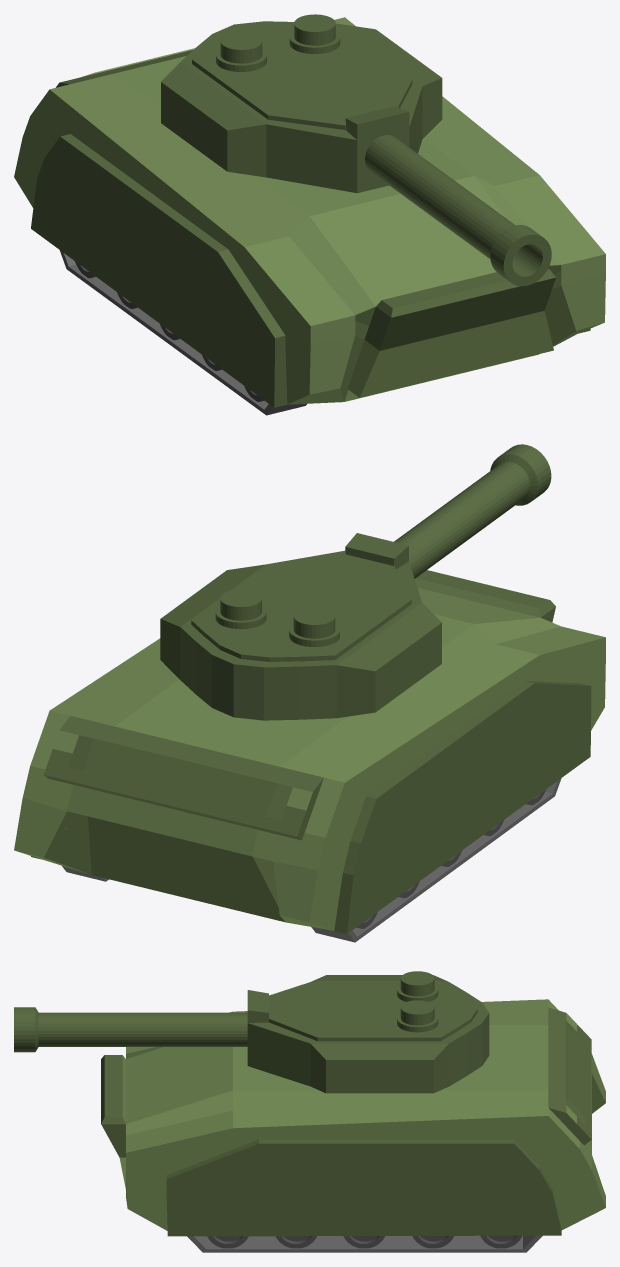
Rendered from tier2.fbx.
The picture shows the model from 3 angles, top to bottom: view 1: azimuth 30°, elevation 25°; view 2: azimuth 150°, elevation 25°; view 3: azimuth 270°, elevation 25°; orthographic projection. The views are drawn at different scales.
Visible parts, largest first — view 1: Body2, Turret2, Main Gun2, Tracks2, Road Wheels2; view 2: Body2, Turret2, Main Gun2, Tracks2; view 3: Body2, Turret2, Main Gun2, Tracks2, Road Wheels2.
Part boxes in pixels (bbox=[...]): Body2: bbox=[14, 17, 605, 407]; Turret2: bbox=[161, 14, 442, 192]; Main Gun2: bbox=[345, 106, 551, 286]; Tracks2: bbox=[59, 250, 306, 415]; Road Wheels2: bbox=[75, 261, 263, 401]; Body2: bbox=[14, 570, 605, 933]; Turret2: bbox=[160, 550, 441, 720]; Main Gun2: bbox=[345, 444, 551, 578]; Tracks2: bbox=[62, 778, 561, 942]; Body2: bbox=[101, 999, 605, 1236]; Turret2: bbox=[247, 971, 489, 1093]; Main Gun2: bbox=[14, 990, 268, 1052]; Tracks2: bbox=[187, 1235, 542, 1252]; Road Wheels2: bbox=[207, 1235, 522, 1248].
Bounding box in the file's own units: 386 × 292 × 772.
